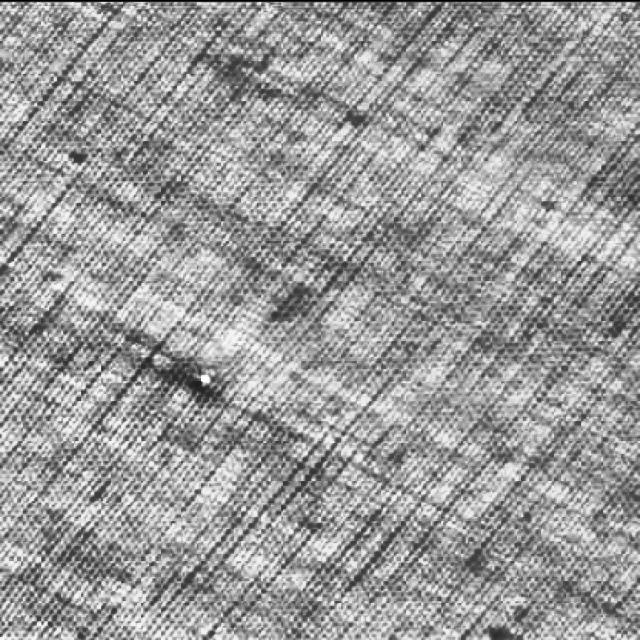hole: (182, 359, 223, 397)
